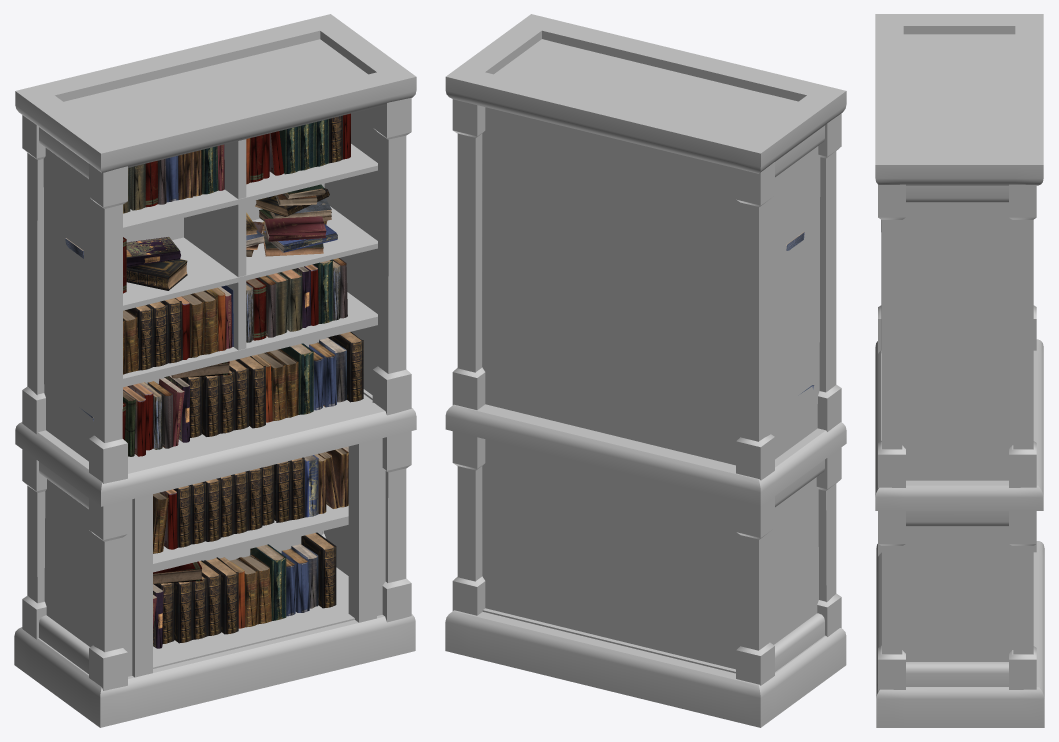
Rendered from BookCase.fbx.
3 views of the same model, side by side, from view 1: azimuth 30°, elevation 25°; view 2: azimuth 150°, elevation 25°; view 3: azimuth 270°, elevation 25° (orthographic). The views are drawn at different scales.
Parts seen in each view (by area): view 1: Book_013_9; view 2: Book_013_9; view 3: Book_013_9.
Boxes of the visible parts, <box> form: Book_013_9: <box>14,14,416,727</box>; Book_013_9: <box>445,14,846,727</box>; Book_013_9: <box>875,14,1044,727</box>.
Size of the model in its own units: 145 by 251 by 68.35.
